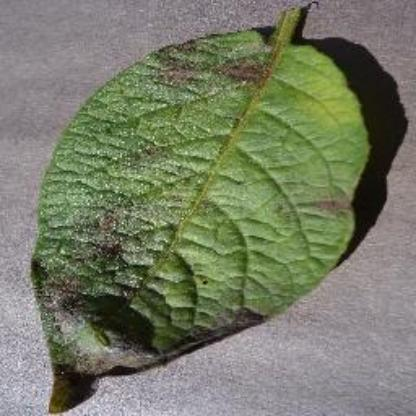Late-Blight: (16, 4, 376, 416)
